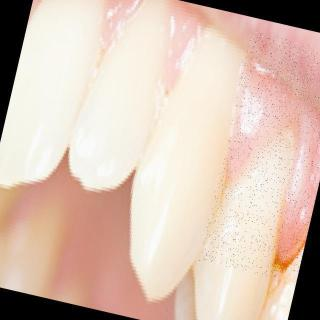Gum Swelling: (209, 41, 320, 243)
